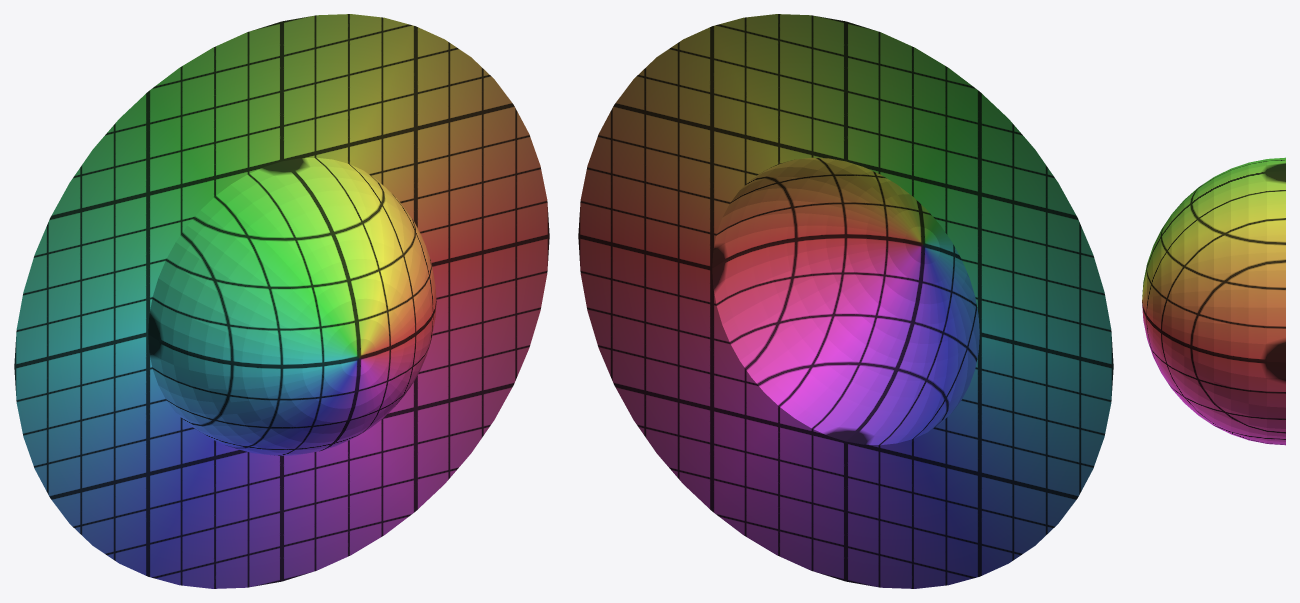
The model's file is hemisphere.obj.
3 renders of one model, left to right at view 1: azimuth 30°, elevation 25°; view 2: azimuth 150°, elevation 25°; view 3: azimuth 270°, elevation 25°, orthographic. The views are drawn at different scales.
Bounding box in the file's own units: 4 × 4 × 1.
Materials: 1 (1 with a texture image).
